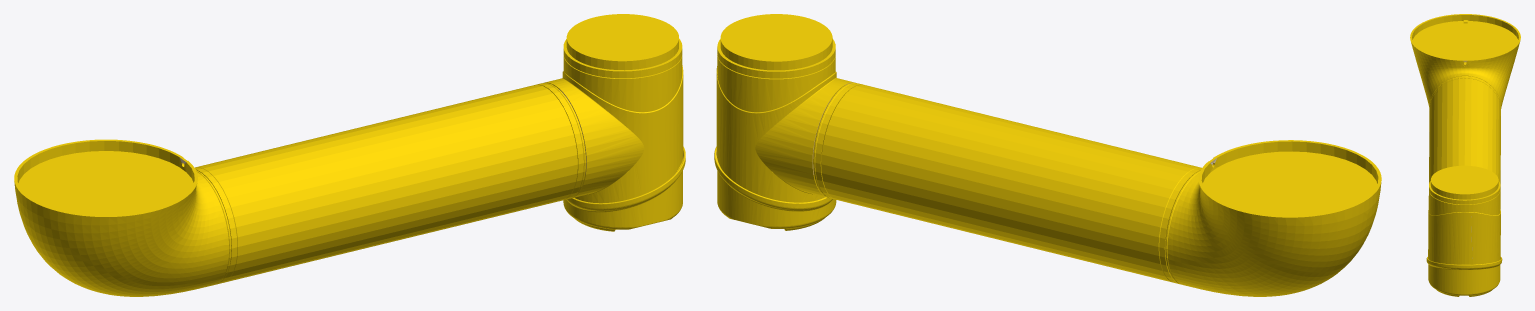
Rendered from AuboI5Link3.dae.
The picture shows the model from 3 angles, left to right: view 1: azimuth 30°, elevation 25°; view 2: azimuth 150°, elevation 25°; view 3: azimuth 270°, elevation 25°; orthographic projection. The views are drawn at different scales.
Parts seen in each view (by area): view 1: Auboi5Link3; view 2: Auboi5Link3; view 3: Auboi5Link3.
Part boxes in pixels (box(x1,y1,x2,y2)): Auboi5Link3: box(14, 14, 685, 296); Auboi5Link3: box(714, 14, 1381, 296); Auboi5Link3: box(1410, 14, 1520, 296).
Bounding box in the file's own units: 0.4735 × 0.116 × 0.1204.
